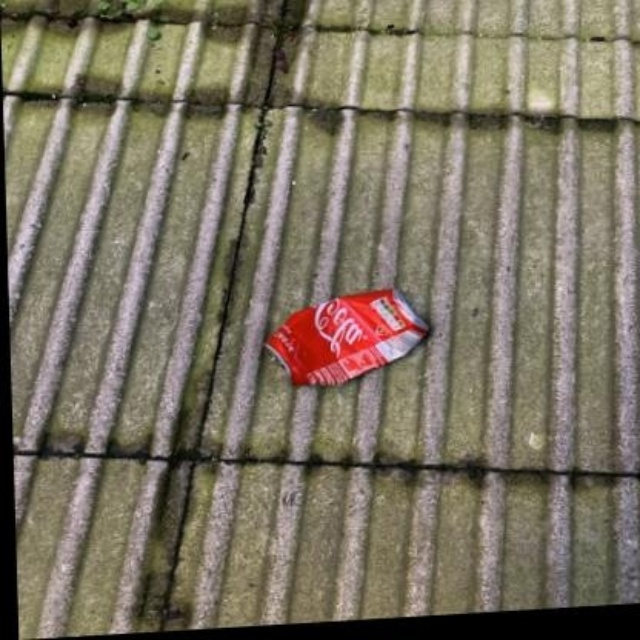trash: (265, 289, 428, 385)
